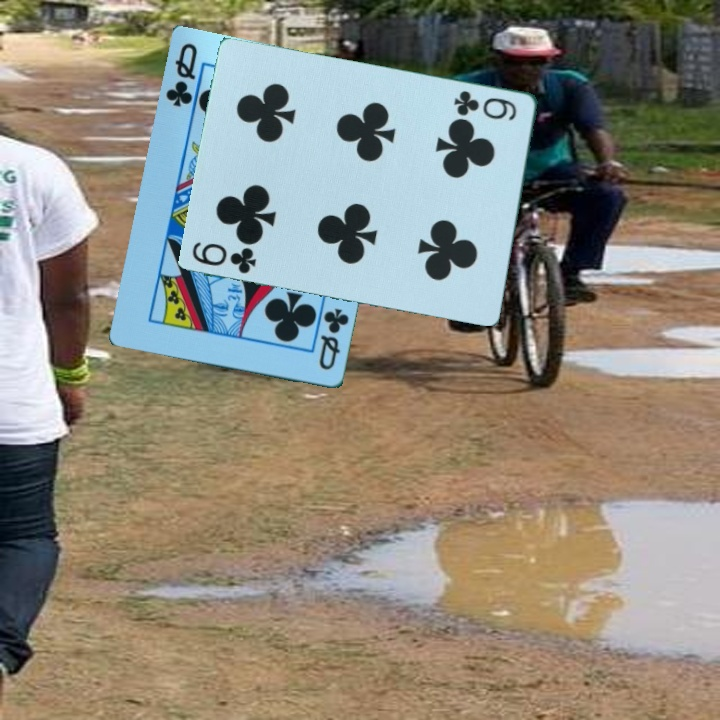6c: (189, 238, 260, 277), (450, 86, 520, 123)
Qc: (162, 40, 201, 111), (315, 305, 353, 374)
